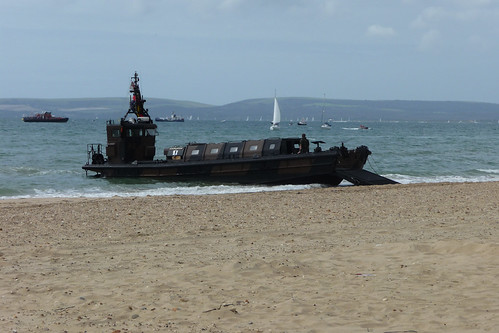beach: (5, 186, 499, 333)
boat: (82, 108, 383, 195), (17, 108, 74, 127), (266, 92, 282, 131)
sea: (1, 124, 498, 204)
sky: (1, 1, 495, 91)
